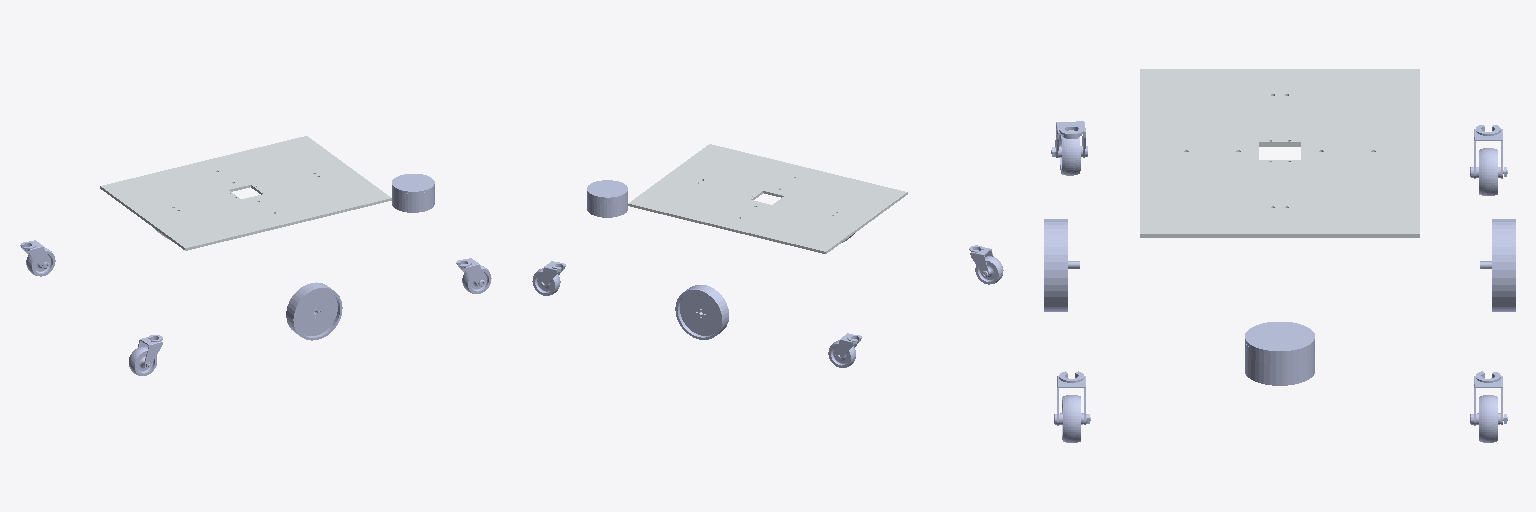
--- Facts derived from the render (not from the file) ---
3 views of the same robot in one strip: view 1: azimuth 30°, elevation 25°; view 2: azimuth 150°, elevation 25°; view 3: azimuth 270°, elevation 25° (orthographic).
Model arabv with 15 links and 14 joints (10 continuous, 1 prismatic, 3 fixed), rooted at base_footprint, posed every joint at zero.
Links seen in each view (by area): view 1: table, rightwheel, lidar; view 2: table, leftwheel, lidar; view 3: table, lidar, rightwheel, leftwheel, rf_castorwheel, lb_castorwheel, lf_castorwheel, rb_castorwheel, rb_castor, lf_castor, lb_castor, rf_castor.
Link boxes in pixels (bbox=[...]): table: bbox=[100, 136, 391, 250]; rightwheel: bbox=[286, 282, 342, 340]; lidar: bbox=[392, 174, 434, 212]; table: bbox=[628, 144, 907, 253]; leftwheel: bbox=[675, 285, 728, 339]; lidar: bbox=[587, 180, 627, 217]; table: bbox=[1140, 69, 1419, 237]; lidar: bbox=[1245, 322, 1314, 385]; rightwheel: bbox=[1044, 219, 1079, 311]; leftwheel: bbox=[1480, 219, 1515, 311]; rf_castorwheel: bbox=[1059, 395, 1083, 442]; lb_castorwheel: bbox=[1476, 148, 1500, 195]; lf_castorwheel: bbox=[1476, 395, 1500, 442]; rb_castorwheel: bbox=[1058, 130, 1082, 175]; rb_castor: bbox=[1051, 121, 1087, 157]; lf_castor: bbox=[1470, 371, 1507, 425]; lb_castor: bbox=[1470, 125, 1507, 178]; rf_castor: bbox=[1054, 371, 1090, 425].
Bounding box of the posed robot: 0.7441 × 0.5064 × 0.185 m (x, y, z).
Meshes: 14 distinct files referenced, 13 mesh visuals loaded (13 binary STL); not drawn: 1 (reference not matched to a file when rendering).

robot.urdf — arabv:
<?xml version="1.0" encoding="utf-8"?>
<!-- This URDF was automatically created by SolidWorks to URDF Exporter! Originally created by Stephen Brawner ([email redacted]) 
     Commit Version: 1.6.0-1-g15f4949  Build Version: 1.6.7594.29634
     For more information, please see http://wiki.ros.org/sw_urdf_exporter -->
<robot
  name="arabv">

  <link name="base_footprint"/>

  <link
    name="base_link">
    <inertial>
      <origin
        xyz="0.0027731 0.0021397 0.02146"
        rpy="0 0 0" />
      <mass
        value="12.177" />
      <inertia
        ixx="0.15803"
        ixy="0.00010299"
        ixz="0.00065484"
        iyy="0.14977"
        iyz="-0.00011946"
        izz="0.29734" />
    </inertial>
    <visual>
      <origin
        xyz="0 0 0"
        rpy="0 0 0" />
      <geometry>
        <mesh
          filename="package://arabv/meshes/base_link.STL" />
      </geometry>
      <material
        name="">
        <color
          rgba="0.75294 0.75294 0.75294 1" />
      </material>
    </visual>
    <collision>
      <origin
        xyz="0 0 0"
        rpy="0 0 0" />
      <geometry>
        <mesh
          filename="package://arabv/meshes/base_link.STL" />
      </geometry>
    </collision>
  </link>

  <joint
    name="base_joint"
    type="fixed">
    <origin
      xyz="0 0 0.064"
      rpy="0 0 0" />
    <parent
      link="base_footprint" />
    <child
      link="base_link" />
    <axis
      xyz="0 0 1" />
  </joint>
  
  <link
    name="rightwheel">
    <inertial>
      <origin
        xyz="2.6257E-14 7.6183E-07 -0.0051693"
        rpy="0 0 0" />
      <mass
        value="0.10207" />
      <inertia
        ixx="7.7079E-05"
        ixy="-8.0197E-21"
        ixz="-1.338E-18"
        iyy="7.7079E-05"
        iyz="4.7102E-10"
        izz="0.00014905" />
    </inertial>
    <visual>
      <origin
        xyz="0 0 0"
        rpy="0 0 0" />
      <geometry>
        <mesh
          filename="package://arabv/meshes/rightwheel.STL" />
      </geometry>
      <material
        name="">
        <color
          rgba="0.79216 0.81961 0.93333 1" />
      </material>
    </visual>
    <collision>
      <origin
        xyz="0 0 0"
        rpy="0 0 0" />
      <geometry>
        <mesh
          filename="package://arabv/meshes/rightwheel.STL" />
      </geometry>
    </collision>
  </link>

  <joint
    name="rw_joint"
    type="continuous">
    <origin
      xyz="0 -0.245499999999998 -0.0150000000000025"
      rpy="1.5707963267949 0 0" />
    <parent
      link="base_link" />
    <child
      link="rightwheel" />
    <axis
      xyz="0 0 -1" />
  </joint>

  <link
    name="leftwheel">
    <inertial>
      <origin
        xyz="1.70419234279962E-14 -7.61830260952168E-07 0.00516930927907144"
        rpy="0 0 0" />
      <mass
        value="0.102069981184763" />
      <inertia
        ixx="7.7078904787387E-05"
        ixy="1.37605078427804E-20"
        ixz="1.508123846158E-18"
        iyy="7.70787212923266E-05"
        iyz="4.71023944322502E-10"
        izz="0.000149053674331003" />
    </inertial>
    <visual>
      <origin
        xyz="0 0 0"
        rpy="0 0 0" />
      <geometry>
        <mesh
          filename="package://arabv/meshes/leftwheel.STL" />
      </geometry>
      <material
        name="">
        <color
          rgba="0.792156862745098 0.819607843137255 0.933333333333333 1" />
      </material>
    </visual>
    <collision>
      <origin
        xyz="0 0 0"
        rpy="0 0 0" />
      <geometry>
        <mesh
          filename="package://arabv/meshes/leftwheel.STL" />
      </geometry>
    </collision>
  </link>

  <joint
    name="lw_joint"
    type="continuous">
    <origin
      xyz="0 0.245500000000023 -0.014999999999992"
      rpy="1.5707963267949 0 0" />
    <parent
      link="base_link" />
    <child
      link="leftwheel" />
    <axis
      xyz="0 0 -1" />
  </joint>

  <link
    name="rf_castor">
    <inertial>
      <origin
        xyz="0.013526103767366 -3.30695506504247E-05 -0.0181709388876463"
        rpy="0 0 0" />
      <mass
        value="0.00839712581811851" />
      <inertia
        ixx="1.9613912128585E-06"
        ixy="-6.35915937835373E-09"
        ixz="2.91503479404394E-07"
        iyy="1.20646093120676E-06"
        iyz="2.23336828116819E-08"
        izz="1.63968367283393E-06" />
    </inertial>
    <visual>
      <origin
        xyz="0 0 0"
        rpy="0 0 0" />
      <geometry>
        <mesh
          filename="package://arabv/meshes/rf_castor.STL" />
      </geometry>
      <material
        name="">
        <color
          rgba="0.792156862745098 0.819607843137255 0.933333333333333 1" />
      </material>
    </visual>
    <collision>
      <origin
        xyz="0 0 0"
        rpy="0 0 0" />
      <geometry>
        <mesh
          filename="package://arabv/meshes/rf_castor.STL" />
      </geometry>
    </collision>
  </link>

  <joint
    name="rfc_joint"
    type="continuous">
    <origin
      xyz="0.316218096980332 -0.224041303764046 -0.00191899999999614"
      rpy="0 0 0" />
    <parent
      link="base_link" />
    <child
      link="rf_castor" />
    <axis
      xyz="0 0 -1" />
  </joint>
  
  <link
    name="rf_castorwheel">
    <inertial>
      <origin
        xyz="2.5535E-15 1.8555E-14 -0.01"
        rpy="0 0 0" />
      <mass
        value="0.028809" />
      <inertia
        ixx="6.147E-06"
        ixy="1.6622E-22"
        ixz="-1.1084E-21"
        iyy="6.147E-06"
        iyz="-1.1642E-22"
        izz="1.0861E-05" />
    </inertial>
    <visual>
      <origin
        xyz="0 0 0"
        rpy="0 0 0" />
      <geometry>
        <mesh
          filename="package://arabv/meshes/rf_castorwheel.STL" />
      </geometry>
      <material
        name="">
        <color
          rgba="0.79216 0.81961 0.93333 1" />
      </material>
    </visual>
    <collision>
      <origin
        xyz="0 0 0"
        rpy="0 0 0" />
      <geometry>
        <mesh
          filename="package://arabv/meshes/rf_castorwheel.STL" />
      </geometry>
    </collision>
  </link>
  
  <joint
    name="rfcw_joint"
    type="continuous">
    <origin
      xyz="0.023938973519481 -0.00979938331741412 -0.0369939994929024"
      rpy="1.57079632679489 0 0.00609765729466005" />
    <parent
      link="rf_castor" />
    <child
      link="rf_castorwheel" />
    <axis
      xyz="0 0 1" />
  </joint>

  <link
    name="lb_castor">
    <inertial>
      <origin
        xyz="-0.0135261037673598 3.3069550658682E-05 -0.0181709388876504"
        rpy="0 0 0" />
      <mass
        value="0.00839712581811847" />
      <inertia
        ixx="1.96139121285849E-06"
        ixy="-6.35915937835685E-09"
        ixz="-2.91503479404393E-07"
        iyy="1.20646093120675E-06"
        iyz="-2.23336828116835E-08"
        izz="1.63968367283392E-06" />
    </inertial>
    <visual>
      <origin
        xyz="0 0 0"
        rpy="0 0 0" />
      <geometry>
        <mesh
          filename="package://arabv/meshes/lb_castor.STL" />
      </geometry>
      <material
        name="">
        <color
          rgba="0.792156862745098 0.819607843137255 0.933333333333333 1" />
      </material>
    </visual>
    <collision>
      <origin
        xyz="0 0 0"
        rpy="0 0 0" />
      <geometry>
        <mesh
          filename="package://arabv/meshes/lb_castor.STL" />
      </geometry>
    </collision>
  </link>

  <joint
    name="lbc_joint"
    type="continuous">
    <origin
      xyz="-0.311781903019668 0.223958696235954 -0.00191900000000297"
      rpy="0 0 -3.14159265358978" />
    <parent
      link="base_link" />
    <child
      link="lb_castor" />
    <axis
      xyz="0 0 -1" />
  </joint>

  <link
    name="lb_castorwheel">
    <inertial>
      <origin
        xyz="4.5797E-15 1.5613E-15 1.7208E-15"
        rpy="0 0 0" />
      <mass
        value="0.028809" />
      <inertia
        ixx="6.147E-06"
        ixy="4.6236E-23"
        ixz="-3.3087E-23"
        iyy="6.147E-06"
        iyz="-1.0555E-22"
        izz="1.0861E-05" />
    </inertial>
    <visual>
      <origin
        xyz="0 0 0"
        rpy="0 0 0" />
      <geometry>
        <mesh
          filename="package://arabv/meshes/lb_castorwheel.STL" />
      </geometry>
      <material
        name="">
        <color
          rgba="0.79216 0.81961 0.93333 1" />
      </material>
    </visual>
    <collision>
      <origin
        xyz="0 0 0"
        rpy="0 0 0" />
      <geometry>
        <mesh
          filename="package://arabv/meshes/lb_castorwheel.STL" />
      </geometry>
    </collision>
  </link>
  
  <joint
    name="lbcw_joint"
    type="continuous">
    <origin
      xyz="-0.0238779973243993 -0.00020043077603954 -0.0369939994929025"
      rpy="1.5707963267949 0 0.00609765729465953" />
    <parent
      link="lb_castor" />
    <child
      link="lb_castorwheel" />
    <axis
      xyz="0 0 -1" />
  </joint>

  <link
    name="rb_castor">
    <inertial>
      <origin
        xyz="0.0107184404468046 0.000542083057206648 -0.0141709388876513"
        rpy="0 0 0" />
      <mass
        value="0.00839712581811848" />
      <inertia
        ixx="1.95964350082834E-06"
        ixy="3.57547854038596E-08"
        ixz="2.90744494378687E-07"
        iyy="1.2082086432369E-06"
        iyz="3.91062356076169E-08"
        izz="1.63968367283392E-06" />
    </inertial>
    <visual>
      <origin
        xyz="0 0 0"
        rpy="0 0 0" />
      <geometry>
        <mesh
          filename="package://arabv/meshes/rb_castor.STL" />
      </geometry>
      <material
        name="">
        <color
          rgba="0.792156862745098 0.819607843137255 0.933333333333333 1" />
      </material>
    </visual>
    <collision>
      <origin
        xyz="0 0 0"
        rpy="0 0 0" />
      <geometry>
        <mesh
          filename="package://arabv/meshes/rb_castor.STL" />
      </geometry>
    </collision>
  </link>

  <joint
    name="rbc_joint"
    type="continuous">
    <origin
      xyz="-0.318472994077162 -0.224285583202021 -0.00591900000000273"
      rpy="0 0 3.14159265358978" />
    <parent
      link="base_link" />
    <child
      link="rb_castor" />
    <axis
      xyz="0 0 -1" />
  </joint>

  <link
    name="rb_castorwheel">
    <inertial>
      <origin
        xyz="-2.2057E-15 -4.5797E-16 2.5674E-16"
        rpy="0 0 0" />
      <mass
        value="0.028809" />
      <inertia
        ixx="6.147E-06"
        ixy="-5.4232E-22"
        ixz="7.9409E-23"
        iyy="6.147E-06"
        iyz="3.2929E-23"
        izz="1.0861E-05" />
    </inertial>
    <visual>
      <origin
        xyz="0 0 0"
        rpy="0 0 0" />
      <geometry>
        <mesh
          filename="package://arabv/meshes/rb_castorwheel.STL" />
      </geometry>
      <material
        name="">
        <color
          rgba="0.79216 0.81961 0.93333 1" />
      </material>
    </visual>
    <collision>
      <origin
        xyz="0 0 0"
        rpy="0 0 0" />
      <geometry>
        <mesh
          filename="package://arabv/meshes/rb_castorwheel.STL" />
      </geometry>
    </collision>
  </link>

  <joint
    name="rbcw_joint"
    type="continuous">
    <origin
      xyz="0.0215705583879482 0.00137719590671458 -0.0329939994929025"
      rpy="1.5707963267949 0 0.0637595534943751" />
    <parent
      link="rb_castor" />
    <child
      link="rb_castorwheel" />
    <axis
      xyz="0 0 -1" />
  </joint>

  <link
    name="lf_castor">
    <inertial>
      <origin
        xyz="0.0135261037673589 -3.30695506501333E-05 -0.0181709388876463"
        rpy="0 0 0" />
      <mass
        value="0.00839712581811851" />
      <inertia
        ixx="1.9613912128585E-06"
        ixy="-6.35915937833089E-09"
        ixz="2.91503479404392E-07"
        iyy="1.20646093120675E-06"
        iyz="2.23336828116933E-08"
        izz="1.63968367283393E-06" />
    </inertial>
    <visual>
      <origin
        xyz="0 0 0"
        rpy="0 0 0" />
      <geometry>
        <mesh
          filename="package://arabv/meshes/lf_castor.STL" />
      </geometry>
      <material
        name="">
        <color
          rgba="0.792156862745098 0.819607843137255 0.933333333333333 1" />
      </material>
    </visual>
    <collision>
      <origin
        xyz="0 0 0"
        rpy="0 0 0" />
      <geometry>
        <mesh
          filename="package://arabv/meshes/lf_castor.STL" />
      </geometry>
    </collision>
  </link>

  <joint
    name="lfc_joint"
    type="continuous">
    <origin
      xyz="0.316218096980333 0.223958696235955 -0.00191899999999596"
      rpy="0 0 0" />
    <parent
      link="base_link" />
    <child
      link="lf_castor" />
    <axis
      xyz="0 0 -1" />
  </joint>

  <link
    name="lf_castorwheel">
    <inertial>
      <origin
        xyz="-5.44009282066327E-15 1.85754189807597E-14 -1.13242748511766E-14"
        rpy="0 0 0" />
      <mass
        value="0.0288085187854741" />
      <inertia
        ixx="6.14695952800051E-06"
        ixy="1.77237073257367E-22"
        ixz="-1.16136158002445E-21"
        iyy="6.14695952800051E-06"
        iyz="-3.84465636897361E-23"
        izz="1.0861176229004E-05" />
    </inertial>
    <visual>
      <origin
        xyz="0 0 0"
        rpy="0 0 0" />
      <geometry>
        <mesh
          filename="package://arabv/meshes/lf_castorwheel.STL" />
      </geometry>
      <material
        name="">
        <color
          rgba="0.792156862745098 0.819607843137255 0.933333333333333 1" />
      </material>
    </visual>
    <collision>
      <origin
        xyz="0 0 0"
        rpy="0 0 0" />
      <geometry>
        <mesh
          filename="package://arabv/meshes/lf_castorwheel.STL" />
      </geometry>
    </collision>
  </link>

  <joint
    name="lfcw_joint"
    type="continuous">
    <origin
      xyz="0.0238779973243994 0.000200430776040428 -0.0369939994929025"
      rpy="1.5707963267949 0 0.00609765729469287" />
    <parent
      link="lf_castor" />
    <child
      link="lf_castorwheel" />
    <axis
      xyz="0 0 1" />
  </joint>

  <link
    name="lidar">
    <inertial>
      <origin
        xyz="-5.5511E-16 1.7208E-15 0.0023774"
        rpy="0 0 0" />
      <mass
        value="0.24043" />
      <inertia
        ixx="0.0001135"
        ixy="6.5469E-21"
        ixz="-6.3027E-19"
        iyy="0.0001135"
        iyz="1.2458E-21"
        izz="0.00017359" />
    </inertial>
    <visual>
      <origin
        xyz="0 0 0"
        rpy="0 0 0" />
      <geometry>
        <mesh
          filename="package://arabv/meshes/lidar.STL" />
      </geometry>
      <material
        name="">
        <color
          rgba="0.79216 0.81961 0.93333 1" />
      </material>
    </visual>
    <collision>
      <origin
        xyz="0 0 0"
        rpy="0 0 0" />
      <geometry>
        <mesh
          filename="package://arabv/meshes/lidar.STL" />
      </geometry>
    </collision>
  </link>
  
  <joint
    name="lidar_joint"
    type="fixed">
    <origin
      xyz="0.340000000000021 0 0.0385000000000035"
      rpy="0 0 0" />
    <parent
      link="base_link" />
    <child
      link="lidar" />
    <axis
      xyz="0 0 0" />
    <limit
      lower="0"
      upper="0"
      effort="0"
      velocity="0" />
  </joint>

  <link
    name="table">
    <inertial>
      <origin
        xyz="-1.5327E-13 2.8438E-13 -0.0025"
        rpy="0 0 0" />
      <mass
        value="1.6706" />
      <inertia
        ixx="0.012748"
        ixy="-6.0143E-18"
        ixz="-6.3006E-23"
        iyy="0.024977"
        iyz="-8.699E-21"
        izz="0.037719" />
    </inertial>
    <visual>
      <origin
        xyz="0 0 0"
        rpy="0 0 0" />
      <geometry>
        <mesh
          filename="package://arabv/meshes/table.STL" />
      </geometry>
      <material
        name="">
        <color
          rgba="0.89804 0.91765 0.92941 1" />
      </material>
    </visual>
    <collision>
      <origin
        xyz="0 0 0"
        rpy="0 0 0" />
      <geometry>
        <mesh
          filename="package://arabv/meshes/table.STL" />
      </geometry>
    </collision>
  </link>

  <joint
    name="table_joint"
    type="prismatic">
    <origin
      xyz="0 0 0.12"
      rpy="0 0 0" />
    <parent
      link="base_link" />
    <child
      link="table" />
    <axis
      xyz="0 0 1" />
    <limit
      lower="0"
      upper="0.3"
      effort="1000"
      velocity="1" />
    <!-- <safety_controller k_position="20"
      k_velocity="20"
      soft_lower_limit="-0.15"
      soft_upper_limit="0.0"/>
    <dynamics damping="50" friction="1"/> -->
  </joint>

  <link
    name="camera">
    <inertial>
      <origin
        xyz="-0.0012437 -2.4398E-06 -0.0055707"
        rpy="0 0 0" />
      <mass
        value="0.0015518" />
      <inertia
        ixx="5.4778E-08"
        ixy="9.8617E-11"
        ixz="2.6113E-09"
        iyy="7.7619E-08"
        iyz="-8.1232E-11"
        izz="1.2354E-07" />
    </inertial>
    <visual>
      <origin
        xyz="0 0 0"
        rpy="0 1.5708 0" />
      <geometry>
        <mesh
          filename="package://arabv/meshes/camera.STL" />
      </geometry>
      <material
        name="">
        <color
          rgba="0.792156862745098 0.819607843137255 0.933333333333333 1" />
      </material>
    </visual>
    <collision>
      <origin
        xyz="0 0 0"
        rpy="0 0 0" />
      <geometry>
        <mesh
          filename="package://arabv/meshes/camera.STL" />
      </geometry>
    </collision>
  </link>

  <joint
    name="camera_joint"
    type="fixed">
    <origin
      xyz="-0.00100000000006423 0 0.0837000461222096"
      rpy="0 -1.5708 0" />
    <parent
      link="base_link" />
    <child
      link="camera" />
    <axis
      xyz="0 0 1" />
  </joint>

  <!-- <joint name="camera_optical_joint" type="fixed">
    <parent link="camera"/>
    <child link="camera_optical"/>
    <origin xyz="0 0 0" rpy="${-pi/2} 0 ${-pi/2}"/>
  </joint>

  <link name="camera_optical"></link> -->

  <gazebo reference="camera">
    <material>Gazebo/Red</material>
    <sensor type="camera" name="picamera">
      <pose> 0 0 0 0 0 0 </pose>
      <visualize>true</visualize>
      <update_rate>30.0</update_rate>
      <camera name="picamera">
        <horizontal_fov>1.0855</horizontal_fov>
        <image>
          <width>1280</width>
          <height>960</height>
          <format>R8G8B8</format>
        </image>
        <clip>
          <near>0.02</near>
          <far>300</far>
        </clip>
        <noise>
          <type>gaussian</type>
          <mean>0.0</mean>
          <stddev>0.007</stddev>
        </noise>
      </camera>
      <plugin name="camera_controller" filename="libgazebo_ros_camera.so">
        <alwaysOn>true</alwaysOn>
        <updateRate>0.0</updateRate>
        <cameraName>picamera</cameraName>
        <imageTopicName>/image_raw</imageTopicName>
        <cameraInfoTopicName>/camera_info</cameraInfoTopicName>
        <frameName>/camera</frameName>
        <hackBaseline>0.07</hackBaseline>
        <distortionK1>0.0</distortionK1>
        <distortionK2>0.0</distortionK2>
        <distortionK3>0.0</distortionK3>
        <distortionT1>0.0</distortionT1>
        <distortionT2>0.0</distortionT2>
      </plugin>
    </sensor>
  </gazebo>

<gazebo reference="camera"> 
  <light name='camera/light_source1' type='spot'>
    <pose frame= ''> 0 0 0 0 3.14 0</pose>
    <diffuse>0.7 0.7 0.7 1</diffuse>
    <specular>0.1 0.1 0.1 1</specular>
    <direction>0 0 -1</direction>
    <attenuation>
      <range>20</range>                      
      <constant>0.1</constant>                      
      <linear>0.01</linear>                   
      <quadratic>0.001</quadratic>                    
    </attenuation>                  
    <cast_shadows>0</cast_shadows>                  
    <spot>                  
      <inner_angle>0.6</inner_angle>                    
      <outer_angle>1</outer_angle>                    
      <falloff>1</falloff>                    
    </spot>
  </light>
  <plugin name='light_control' filename='libFlashLightPlugin.so'>
      <enable>true</enable>
      <!-- <light>
        <id>camera/light_source1</id>
        <duration>0.5</duration>
        <interval>0.5</interval>
      </light> -->
   </plugin>
  <selfCollide>false</selfCollide>
</gazebo>

  <gazebo reference="lidar">
    <sensor type="ray" name="head_rplidar_sensor">
      <pose>0 0 0 0 0 0</pose>
      <visualize>true</visualize>
      <update_rate>40</update_rate>
      <ray>
        <scan>
          <horizontal>
            <samples>720</samples>
            <resolution>1</resolution>
            <min_angle>-3.14159265</min_angle>
            <max_angle>3.14159265</max_angle>
          </horizontal>
        </scan>
        <range>
          <min>0.2</min>
          <max>12.0</max>
          <resolution>0.01</resolution>
        </range>
        <noise>
          <type>gaussian</type>
          <mean>0.0</mean>
          <stddev>0.01</stddev>
        </noise>
      </ray>
      <plugin name="gazebo_ros_head_rplidar_controller" filename="libgazebo_ros_laser.so">
        <topicName>/scan</topicName>
        <frameName>lidar</frameName>
      </plugin>
    </sensor>
  </gazebo>

  <gazebo>
        <plugin name="differential_drive_controller" filename="libgazebo_ros_diff_drive.so">
        <!-- Plugin update rate in Hz -->
        <updateRate>20</updateRate>
        <!-- Name of left joint, defaults to `left_joint` -->
        <leftJoint>lw_joint</leftJoint>
        <!-- Name of right joint, defaults to `right_joint` -->
        <rightJoint>rw_joint</rightJoint>
        <!-- The distance from the center of one wheel to the other, in meters, defaults to 0.34 m -->
        <wheelSeparation>0.4556</wheelSeparation>
        <!-- Diameter of the wheels, in meters, defaults to 0.15 m -->
        <wheelDiameter>0.1</wheelDiameter>
        <!-- Wheel acceleration, in rad/s^2, defaults to 0.0 rad/s^2 -->
        <wheelAcceleration>20.0</wheelAcceleration>
        <!-- Maximum torque which the wheels can produce, in Nm, defaults to 5 Nm -->
        <wheelTorque>7</wheelTorque>
        <!-- Topic to receive geometry_msgs/Twist message commands, defaults to `cmd_vel` -->
        <commandTopic>/arabv/base_controller/cmd_vel</commandTopic>
        <!-- <commandTopic>/cmd_vel</commandTopic> -->
        <!-- Topic to publish nav_msgs/Odometry messages, defaults to `odom` -->
        <odometryTopic>/arabv/base_controller/odom</odometryTopic>
        <!-- Odometry frame, defaults to `odom` -->
        <odometryFrame>odom</odometryFrame>
        <!-- Robot frame to calculate odometry from, defaults to `base_footprint` -->
        <robotBaseFrame>base_footprint</robotBaseFrame>
        <!-- Odometry source, 0 for ENCODER, 1 for WORLD, defaults to WORLD -->
        <odometrySource>1</odometrySource>
        <!-- Set to true to publish transforms for the wheel links, defaults to false -->
        <publishWheelTF>true</publishWheelTF>
        <!-- Set to true to publish transforms for the odometry, defaults to true -->
        <publishOdom>true</publishOdom>
        <!-- Set to true to publish sensor_msgs/JointState on /joint_states for the wheel joints, defaults to false -->
        <publishWheelJointState>true</publishWheelJointState>
        <!-- Set to true to swap right and left wheels, defaults to true -->
        <legacyMode>false</legacyMode>
      </plugin>
    </gazebo>

    <gazebo reference="base_footprint">
        <material>
            Gazebo/Black
        </material>
    </gazebo>
    <gazebo reference="base_link">
        <material>
            Gazebo/Black
        </material>
    </gazebo>
    <!-- <gazebo reference="leftwheel">
        <material>
            Gazebo/Yellow
        </material>
    </gazebo>
    <gazebo reference="rightwheel">
        <material>
            Gazebo/Yellow
        </material>
    </gazebo> -->
    <gazebo reference="lf_castorwheel">
        <material>
            Gazebo/Yellow
        </material>
    </gazebo>
    <gazebo reference="lb_castorwheel">
        <material>
            Gazebo/Yellow
        </material>
    </gazebo>
    <gazebo reference="rb_castorwheel">
        <material>
            Gazebo/Yellow
        </material>
    </gazebo>
    <gazebo reference="rf_castorwheel">
        <material>
            Gazebo/Yellow
        </material>
    </gazebo>

  <transmission name="linearActuator">
    <type>transmission_interface/SimpleTransmission</type>
    <joint name="table_joint">
      <hardwareInterface>hardware_interface/VelocityJointInterface</hardwareInterface>
    </joint>
    <actuator name="motor1">
      <hardwareInterface>hardware_interface/VelocityJointInterface</hardwareInterface>
      <mechanicalReduction>1</mechanicalReduction>
    </actuator>
  </transmission>

  <gazebo>
    <plugin name="gazebo_ros_control" filename="libgazebo_ros_control.so">
      <robotNamespace>/arabv</robotNamespace>
    </plugin>
  </gazebo>

</robot>
